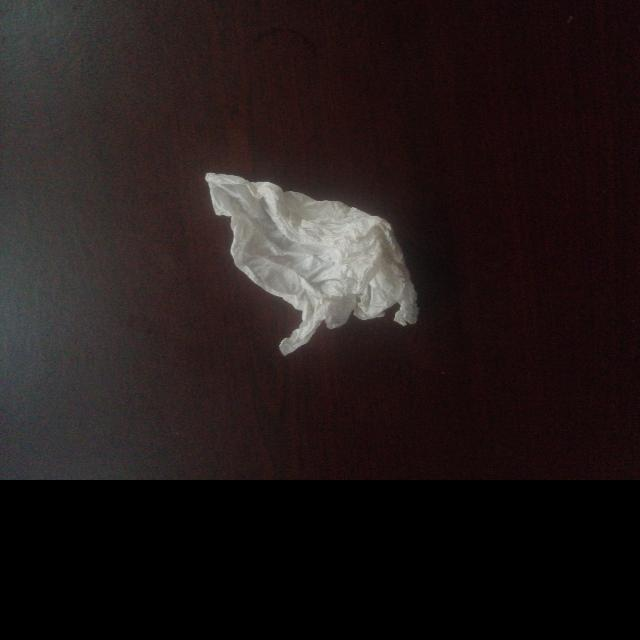kitchen paper: (195, 153, 430, 365)
